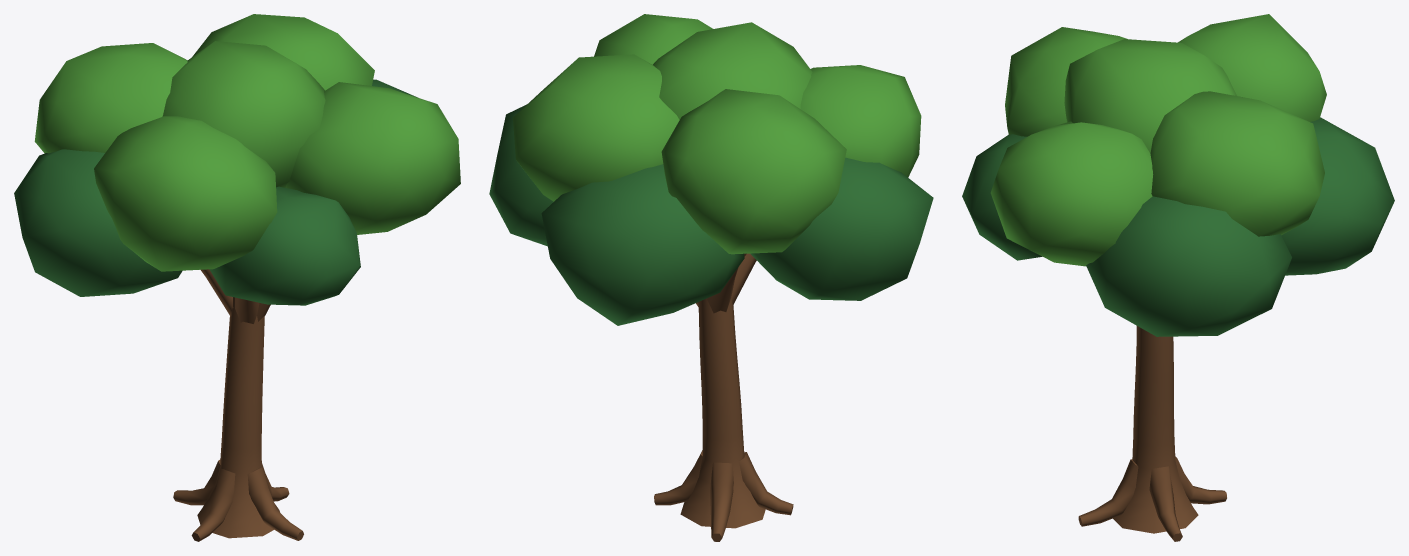
File: oak-tree.glb
3 views of the same model, side by side, from view 1: azimuth 30°, elevation 25°; view 2: azimuth 150°, elevation 25°; view 3: azimuth 270°, elevation 25° (orthographic).
Visible parts, largest first — view 1: Oak crown, Oak trunk, Oak limbs; view 2: Oak crown, Oak trunk, Oak limbs; view 3: Oak crown, Oak trunk.
Part boxes in pixels (x1,y1,x2,y2): Oak crown: (14, 14, 460, 305); Oak trunk: (173, 297, 303, 541); Oak limbs: (200, 269, 270, 323); Oak crown: (489, 14, 933, 325); Oak trunk: (654, 297, 793, 541); Oak limbs: (696, 253, 756, 313); Oak crown: (962, 14, 1394, 336); Oak trunk: (1078, 326, 1226, 541).
Size of the model in its own units: 4.24 by 4.6 by 3.87.
